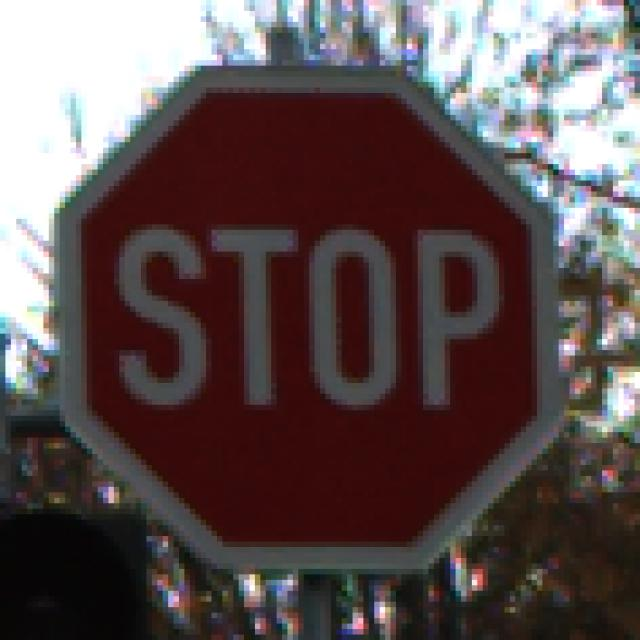STOP: (55, 56, 587, 586)
